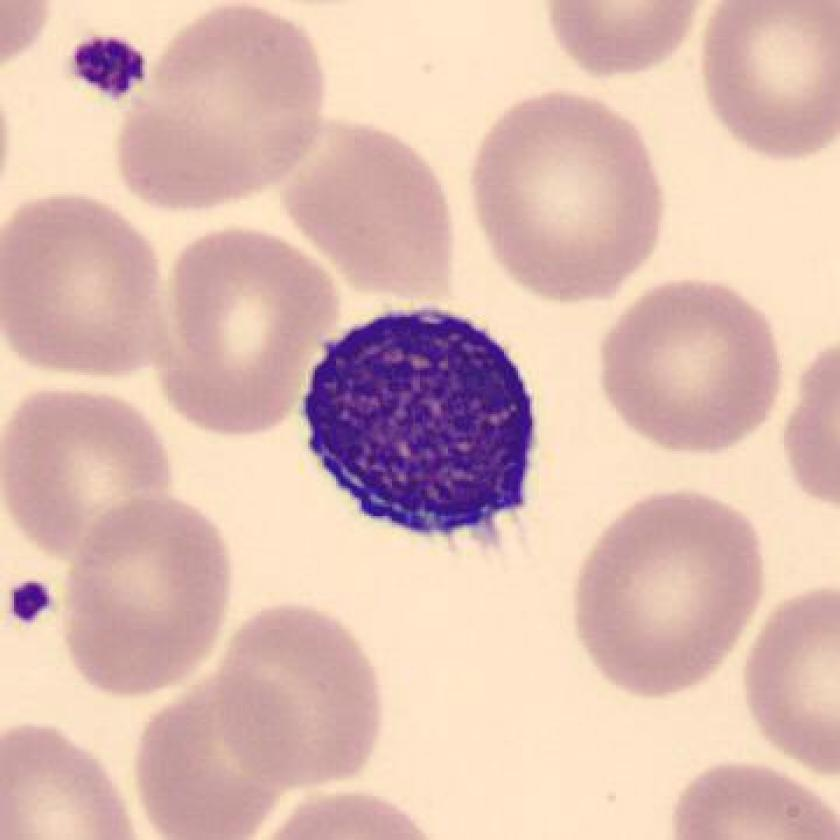lymphocyte: (295, 295, 547, 559)
